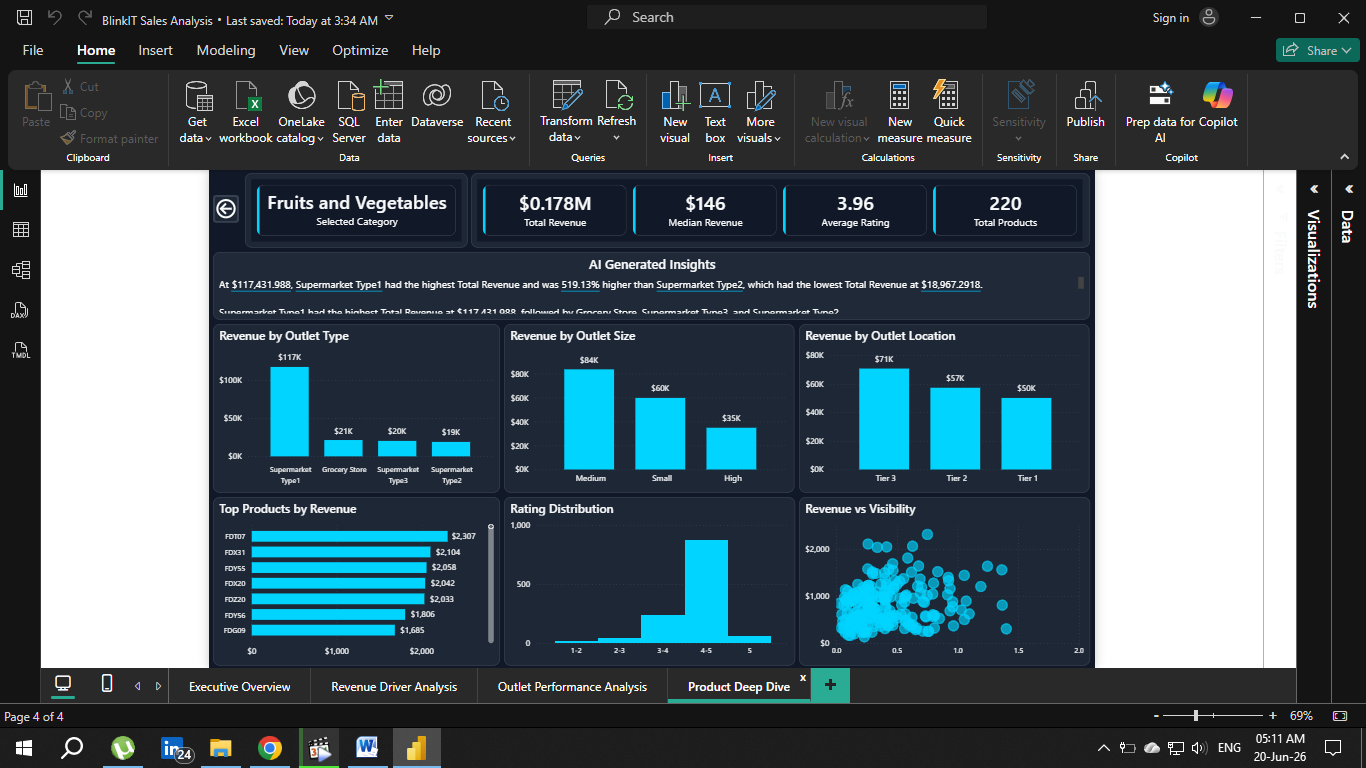

This screenshot's page, from the dashboard's own definition file:
{"tool":"powerbi","page":{"name":"Product Deep Dive","canvas":[1280,720],"ordinal":3},"visuals":[{"type":"cardVisual","fields":{"Data":["sales_cleaned.Total Revenue","sales_cleaned.Median Revenue","sales_cleaned.Average Rating","sales_cleaned.Total Products"]},"box":[378.8,4.3,894.9,108.4],"z":0},{"type":"clusteredColumnChart","title":"Revenue by Outlet Type","fields":{"Category":["sales_cleaned.outlet_type"],"Y":["sales_cleaned.Total Revenue"]},"box":[5.8,222.7,414.9,244.3],"z":1000},{"type":"clusteredColumnChart","title":"Revenue by Outlet Location","fields":{"Category":["sales_cleaned.outlet_location"],"Y":["sales_cleaned.Total Revenue"]},"box":[853,222.9,420,244.3],"z":2000},{"type":"clusteredColumnChart","title":"Revenue by Outlet Size","fields":{"Category":["sales_cleaned.outlet_size"],"Y":["sales_cleaned.Total Revenue"]},"box":[426.5,223,420,244.3],"z":3000},{"type":"actionButton","box":[5.8,36.1,37.6,40.5],"z":5000},{"type":"cardVisual","fields":{"Data":["sales_cleaned.Selected Product"]},"box":[52,4.3,322.4,108.4],"z":6000},{"type":"clusteredColumnChart","title":"Rating Distribution","fields":{"Category":["sales_cleaned.Rating Bucket"],"Y":["CountNonNull(sales_cleaned.item_id)"]},"box":[426.5,473.3,420.7,244.3],"z":7000},{"type":"scatterChart","title":"Revenue vs Visibility","fields":{"Y":["sales_cleaned.Total Revenue"],"Category":["sales_cleaned.item_id"],"X":["Sum(sales_cleaned.item_visibility)"]},"box":[853,473.3,420.7,244.3],"z":7001},{"type":"textbox","title":"AI Generated Insights","box":[5.8,118.8,1268,98],"z":7002},{"type":"clusteredBarChart","title":"Top Products by Revenue","fields":{"Y":["sales_cleaned.Total Revenue"],"Category":["sales_cleaned.item_id"]},"box":[5.8,472.8,414.9,244.3],"z":7003}]}

Visuals, with their boxes on the page's 1280x720 design canvas (x1, y1, x2, y2). These are canvas units, not pixel positions in the 1366x768 screenshot, which may show the page scaled, cropped or inside an application window:
cardVisual - sales_cleaned.Total Revenue x sales_cleaned.Median Revenue: detection(379, 4, 1274, 113)
"Revenue by Outlet Type" clusteredColumnChart: detection(6, 223, 421, 467)
"Revenue by Outlet Location" clusteredColumnChart: detection(853, 223, 1273, 467)
"Revenue by Outlet Size" clusteredColumnChart: detection(426, 223, 846, 467)
actionButton: detection(6, 36, 43, 77)
cardVisual - sales_cleaned.Selected Product: detection(52, 4, 374, 113)
"Rating Distribution" clusteredColumnChart: detection(426, 473, 847, 718)
"Revenue vs Visibility" scatterChart: detection(853, 473, 1274, 718)
"AI Generated Insights" textbox: detection(6, 119, 1274, 217)
"Top Products by Revenue" clusteredBarChart: detection(6, 473, 421, 717)
